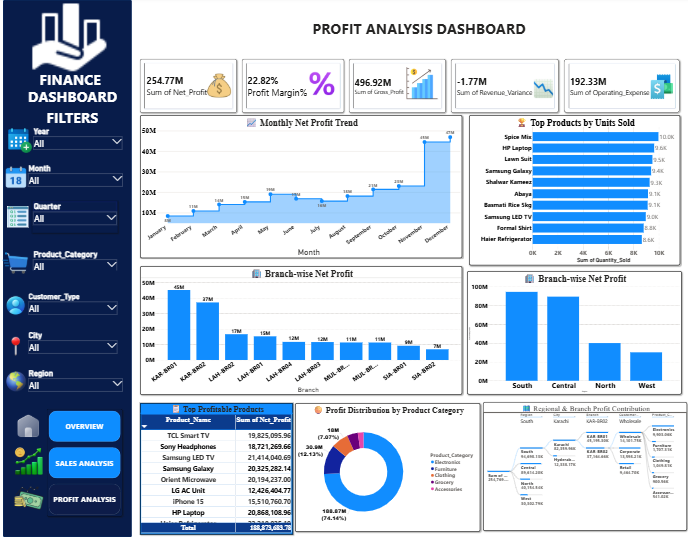

What the dashboard file says about the page in this screenshot:
{"tool":"powerbi","page":{"name":"PROFIT ANALYSIS","canvas":[6155,4826],"ordinal":2},"visuals":[{"type":"shape","box":[24,24,1152,4800],"z":0},{"type":"image","box":[192,0,864,720],"z":1000},{"type":"pageNavigator","box":[416,3680,672,960],"z":2000},{"type":"slicer","fields":{"Values":["Financial_Performance_Overview.Quarter"]},"box":[288,1824,768,288],"z":3000},{"type":"slicer","fields":{"Values":["Financial_Performance_Overview.Year"]},"box":[288,1152,816,240],"z":4000},{"type":"slicer","fields":{"Values":["Financial_Performance_Overview.Product_Category"]},"box":[288,2256,768,192],"z":5000},{"type":"image","box":[128,3712,256,256],"z":6000},{"type":"image","box":[96,4000,320,288],"z":7000},{"type":"image","box":[96,4320,320,320],"z":8000},{"type":"slicer","fields":{"Values":["Financial_Performance_Overview.Region"]},"box":[240,3312,864,288],"z":9000},{"type":"lineChart","title":"📈 Monthly Net Profit Trend","fields":{"Category":["Financial_Performance_Overview.Date.Variation.Date Hierarchy.Month"],"Y":["Sum(Financial_Performance_Overview.Net_Profit)"]},"box":[1248,1056,2880,1280],"z":10000},{"type":"clusteredColumnChart","title":"🏢 Branch-wise Net Profit","fields":{"Category":["Financial_Performance_Overview.Region"],"Y":["Sum(Financial_Performance_Overview.Net_Profit)"]},"box":[4176,2448,1920,1104],"z":11000},{"type":"tableEx","title":"📋 Top Profitable Products","fields":{"Values":["Financial_Performance_Overview.Product_Name","Sum(Financial_Performance_Overview.Net_Profit)"]},"box":[1248,3624,1368,1176],"z":12000},{"type":"slicer","fields":{"Values":["Financial_Performance_Overview.City"]},"box":[240,2976,816,288],"z":13000},{"type":"slicer","fields":{"Values":["Financial_Performance_Overview.Customer_Type"]},"box":[240,2640,816,240],"z":14000},{"type":"image","box":[48,1152,240,240],"z":15000},{"type":"image","box":[0,3312,288,240],"z":16000},{"type":"image","box":[48,2640,192,240],"z":17000},{"type":"image","box":[48,2976,192,288],"z":18000},{"type":"textbox","box":[2784,192,2016,288],"z":19000},{"type":"columnChart","title":"🏢 Branch-wise Net Profit","fields":{"Category":["Financial_Performance_Overview.Branch"],"Y":["Sum(Financial_Performance_Overview.Net_Profit)"]},"box":[1248,2400,2880,1152],"z":21000},{"type":"decompositionTreeVisual","title":"🗺️ Regional & Branch Profit Contribution","fields":{"Analyze":["Sum(Financial_Performance_Overview.Net_Profit)"],"ExplainBy":["Financial_Performance_Overview.Region","Financial_Performance_Overview.City","Financial_Performance_Overview.Branch","Financial_Performance_Overview.Customer_Type","Financial_Performance_Overview.Product_Category"]},"box":[4320,3616,1824,1152],"z":22000},{"type":"cardVisual","fields":{"Data":["Sum(Financial_Performance_Overview.Operating_Expense)"]},"box":[5040,552,1032,480],"z":23000},{"type":"cardVisual","fields":{"Data":["Sum(Financial_Performance_Overview.Gross_Profit)"]},"box":[3120,552,864,480],"z":24000},{"type":"cardVisual","fields":{"Data":["Financial_Performance_Overview.Profit Margin%"]},"box":[2160,552,912,480],"z":25000},{"type":"cardVisual","fields":{"Data":["Sum(Financial_Performance_Overview.Revenue_Variance)"]},"box":[4032,552,960,480],"z":26000},{"type":"cardVisual","fields":{"Data":["Sum(Financial_Performance_Overview.Net_Profit)"]},"box":[1248,552,864,480],"z":27000},{"type":"image","box":[0,2256,288,240],"z":28000},{"type":"image","box":[5784,672,264,264],"z":29000},{"type":"image","box":[1824,680,272,224],"z":30000},{"type":"image","box":[4704,696,312,240],"z":31000},{"type":"image","box":[3624,624,288,288],"z":32000},{"type":"image","box":[2712,624,336,288],"z":33000},{"type":"donutChart","title":"🥧 Profit Distribution by Product Category","fields":{"Category":["Financial_Performance_Overview.Product_Category"],"Y":["Sum(Financial_Performance_Overview.Net_Profit)"]},"box":[2640,3624,1656,1152],"z":34000},{"type":"clusteredBarChart","title":"🏆 Top Products by Units Sold","fields":{"Category":["Financial_Performance_Overview.Product_Name"],"Y":["Sum(Financial_Performance_Overview.Quantity_Sold)"]},"box":[4192,1056,1888,1344],"z":35000},{"type":"slicer","fields":{"Values":["Financial_Performance_Overview.Date.Variation.Date Hierarchy.Month"]},"box":[240,1488,864,240],"z":36000},{"type":"image","box":[64,1872,192,192],"z":37000},{"type":"image","box":[24,1488,232,256],"z":38000},{"type":"textbox","box":[168,792,960,216],"z":39000},{"type":"textbox","box":[408,984,480,192],"z":40000},{"type":"textbox","box":[32,640,1184,288],"z":41000}]}

Visuals, with their boxes in screenshot pixels (x1, y1, x2, y2), scaled from the page's 6155x4826 canvas onto the 688x537 screenshot:
shape: bbox=(3, 3, 131, 536)
image: bbox=(21, 0, 118, 80)
pageNavigator: bbox=(47, 409, 122, 516)
slicer - Financial_Performance_Overview.Quarter: bbox=(32, 203, 118, 235)
slicer - Financial_Performance_Overview.Year: bbox=(32, 128, 123, 155)
slicer - Financial_Performance_Overview.Product_Category: bbox=(32, 251, 118, 272)
image: bbox=(14, 413, 43, 442)
image: bbox=(11, 445, 47, 477)
image: bbox=(11, 481, 47, 516)
slicer - Financial_Performance_Overview.Region: bbox=(27, 369, 123, 401)
"📈 Monthly Net Profit Trend" lineChart: bbox=(140, 118, 461, 260)
"🏢 Branch-wise Net Profit" clusteredColumnChart: bbox=(467, 272, 681, 395)
"📋 Top Profitable Products" tableEx: bbox=(140, 403, 292, 534)
slicer - Financial_Performance_Overview.City: bbox=(27, 331, 118, 363)
slicer - Financial_Performance_Overview.Customer_Type: bbox=(27, 294, 118, 320)
image: bbox=(5, 128, 32, 155)
image: bbox=(0, 369, 32, 395)
image: bbox=(5, 294, 27, 320)
image: bbox=(5, 331, 27, 363)
textbox: bbox=(311, 21, 537, 53)
"🏢 Branch-wise Net Profit" columnChart: bbox=(140, 267, 461, 395)
"🗺️ Regional & Branch Profit Contribution" decompositionTreeVisual: bbox=(483, 402, 687, 531)
cardVisual - Sum(Financial_Performance_Overview.Operating_Expense): bbox=(563, 61, 679, 115)
cardVisual - Sum(Financial_Performance_Overview.Gross_Profit): bbox=(349, 61, 445, 115)
cardVisual - Financial_Performance_Overview.Profit Margin%: bbox=(241, 61, 343, 115)
cardVisual - Sum(Financial_Performance_Overview.Revenue_Variance): bbox=(451, 61, 558, 115)
cardVisual - Sum(Financial_Performance_Overview.Net_Profit): bbox=(140, 61, 236, 115)
image: bbox=(0, 251, 32, 278)
image: bbox=(647, 75, 676, 104)
image: bbox=(204, 76, 234, 101)
image: bbox=(526, 77, 561, 104)
image: bbox=(405, 69, 437, 101)
image: bbox=(303, 69, 341, 101)
"🥧 Profit Distribution by Product Category" donutChart: bbox=(295, 403, 480, 531)
"🏆 Top Products by Units Sold" clusteredBarChart: bbox=(469, 118, 680, 267)
slicer - Financial_Performance_Overview.Date.Variation.Date Hierarchy.Month: bbox=(27, 166, 123, 192)
image: bbox=(7, 208, 29, 230)
image: bbox=(3, 166, 29, 194)
textbox: bbox=(19, 88, 126, 112)
textbox: bbox=(46, 109, 99, 131)
textbox: bbox=(4, 71, 136, 103)
